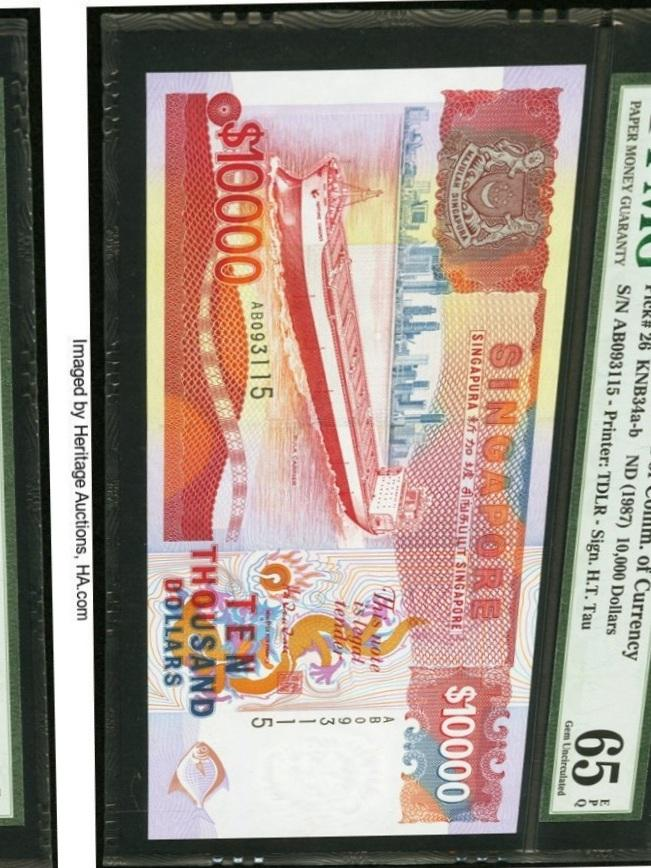10000SingaporeDollar: (152, 89, 559, 830)
